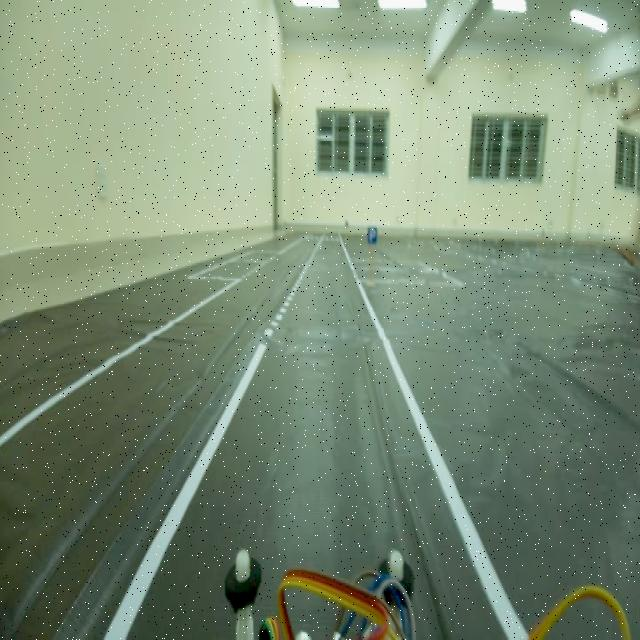parking: (366, 222, 380, 252)
